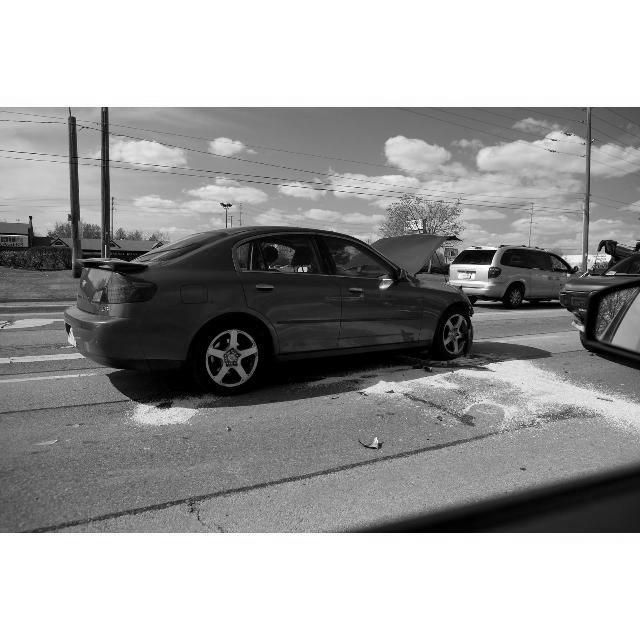doorouter-dent: (235, 236, 329, 305)
